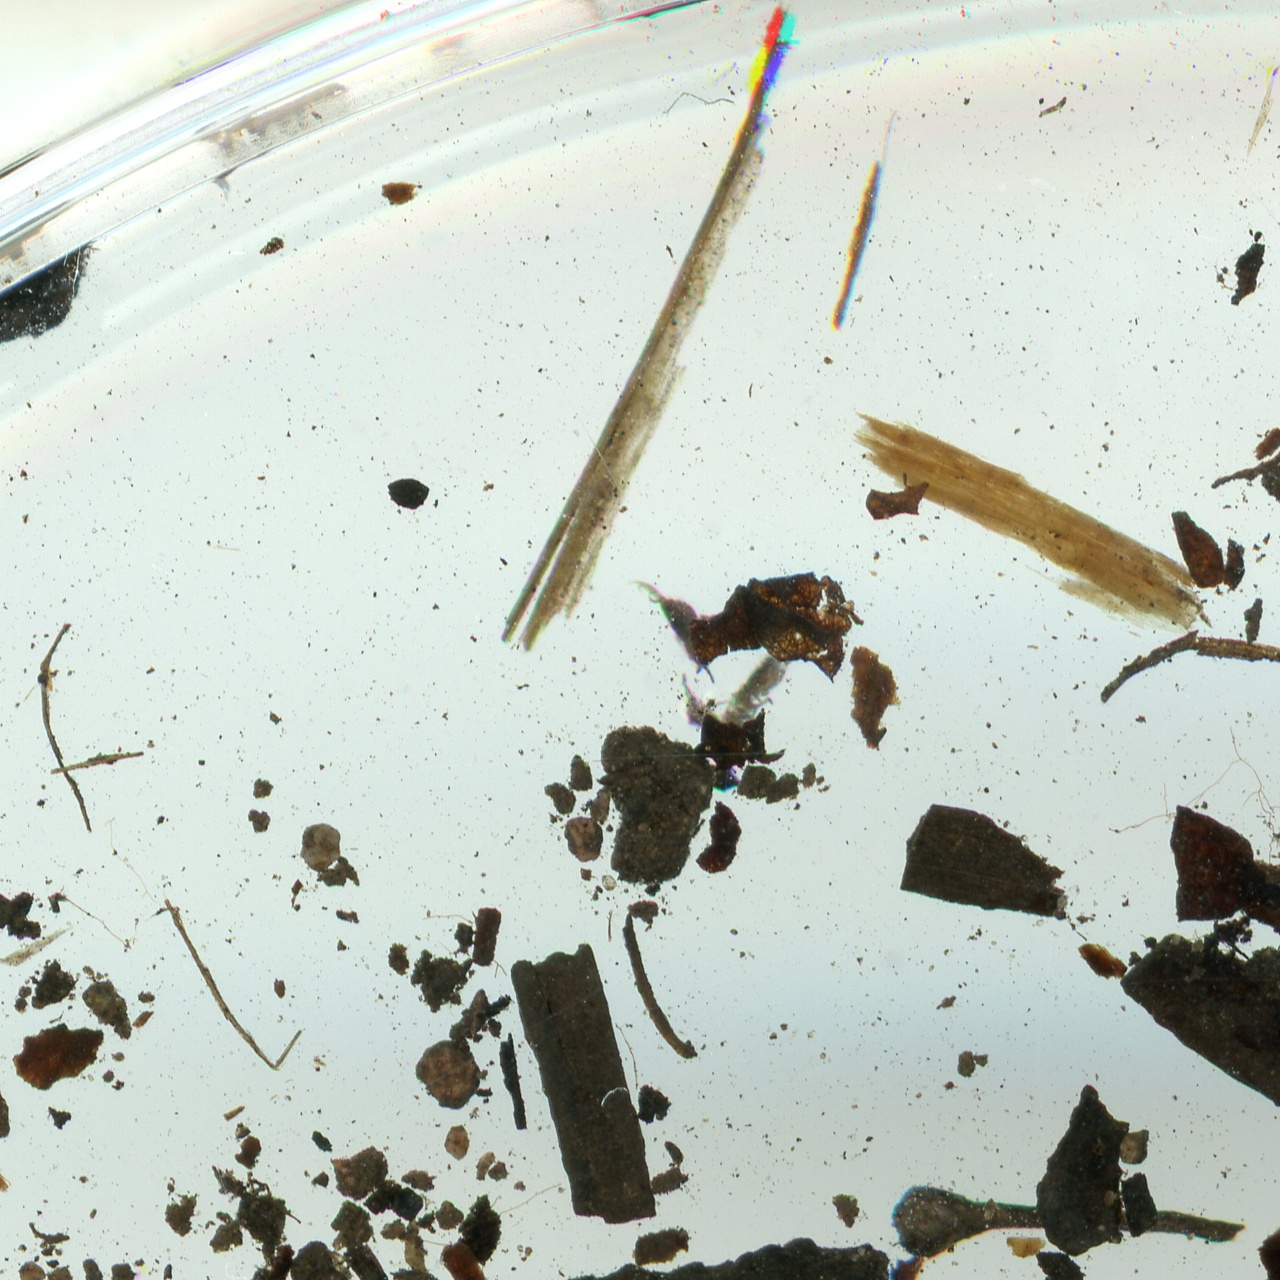arthropod: (623, 557, 726, 702), (713, 644, 810, 738), (658, 666, 725, 735)
